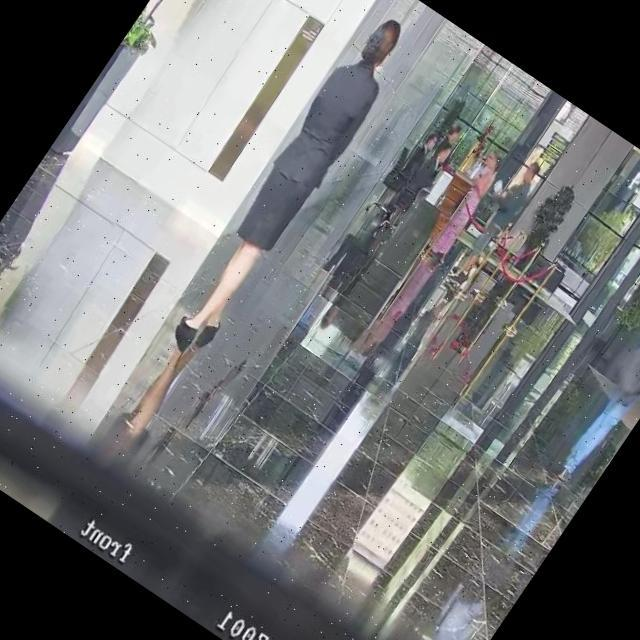person: (152, 6, 420, 368), (545, 259, 640, 500), (435, 149, 548, 294), (424, 152, 512, 268), (400, 136, 457, 208), (393, 128, 441, 190), (432, 122, 464, 162)
